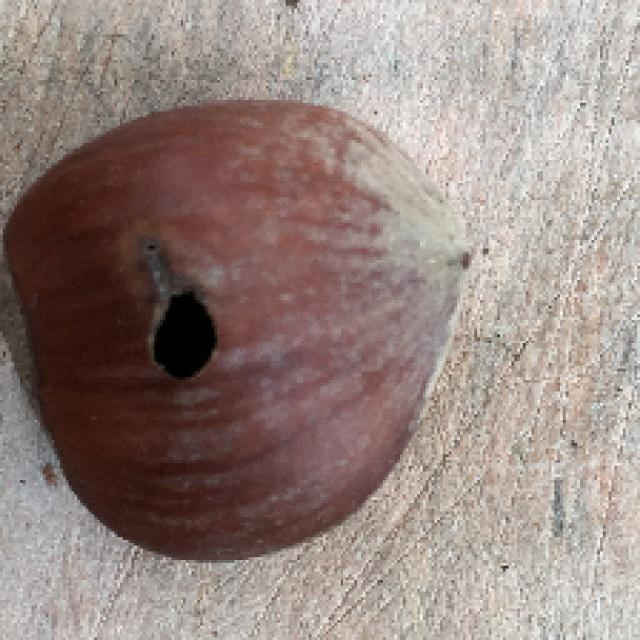damagedHazelnut: (0, 86, 478, 565)
